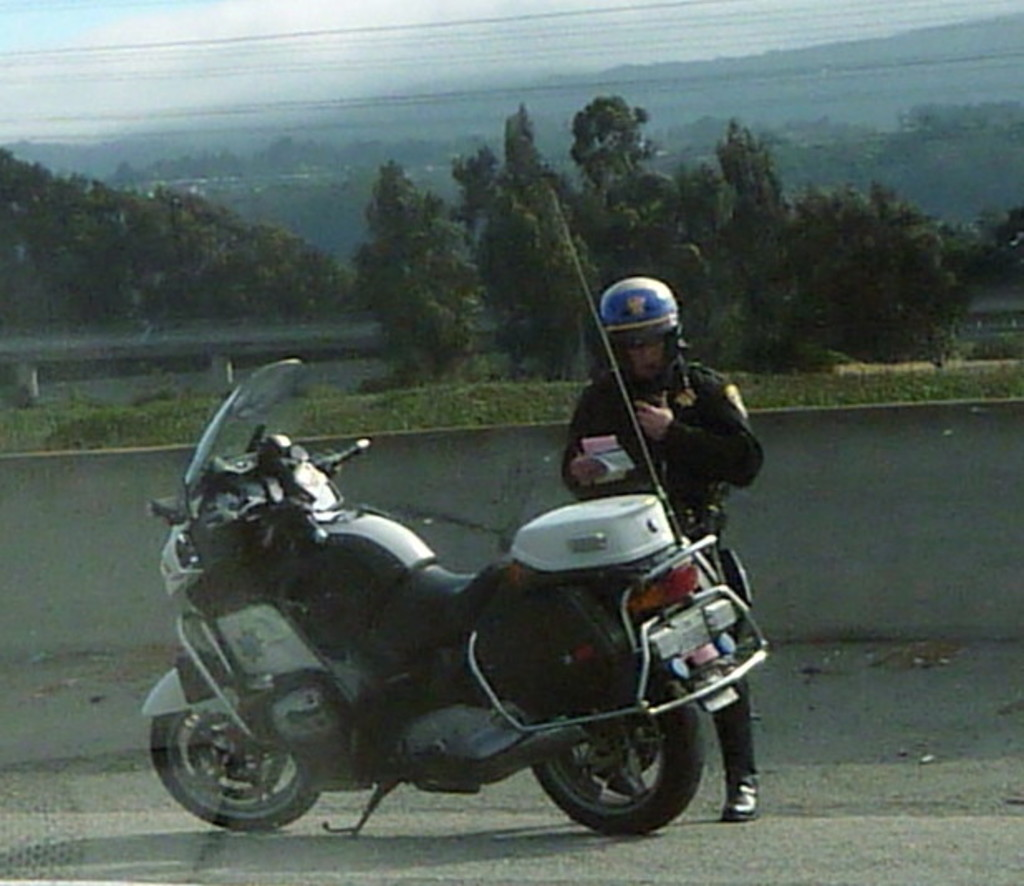Person: (558, 274, 765, 821)
